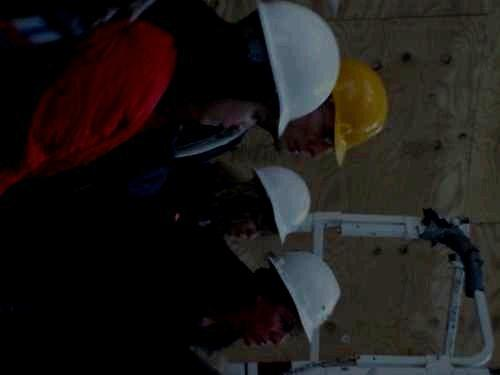helmet: (199, 1, 341, 138), (273, 58, 389, 167), (241, 251, 342, 348), (220, 165, 311, 249)
